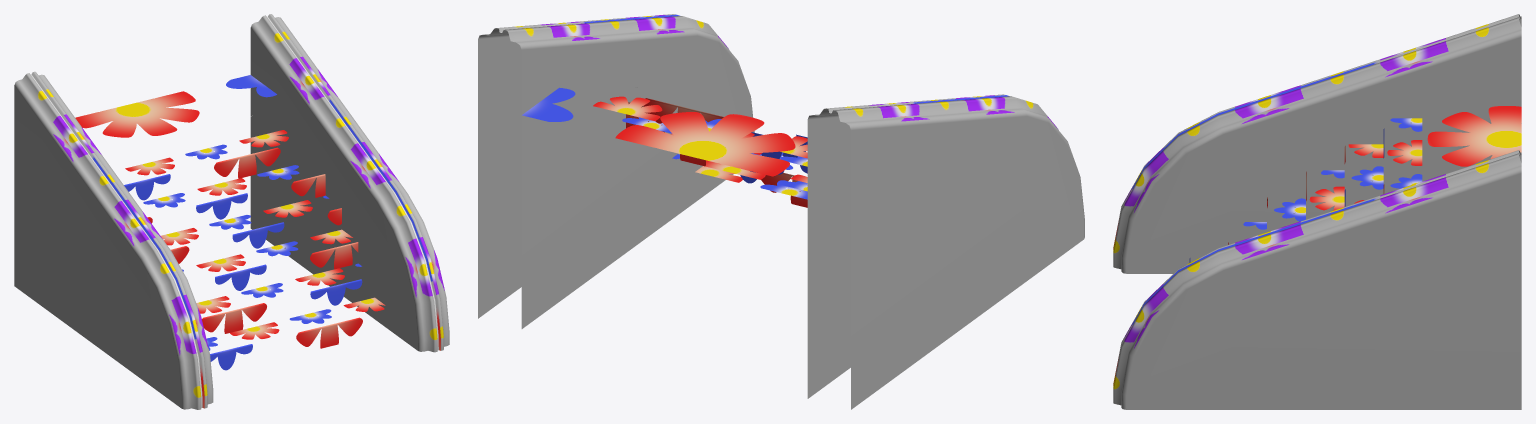
Rendered from SM_Steps.fbx.
The picture shows the model from 3 angles, left to right: view 1: azimuth 30°, elevation 25°; view 2: azimuth 150°, elevation 25°; view 3: azimuth 270°, elevation 25°; orthographic projection. The views are drawn at different scales.
Parts seen in each view (by area): view 1: SM_Steps; view 2: SM_Steps; view 3: SM_Steps.
Part boxes in pixels (bbox=[...]): SM_Steps: bbox=[14, 14, 449, 409]; SM_Steps: bbox=[478, 14, 1084, 409]; SM_Steps: bbox=[1113, 14, 1521, 409].
Bounding box in the file's own units: 273 × 206 × 306.
